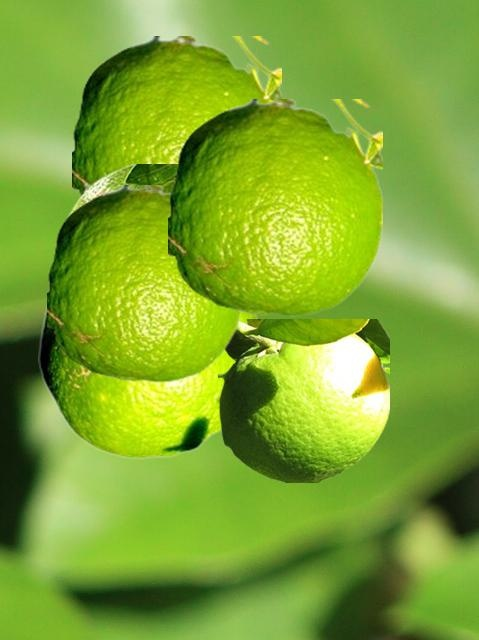dalandan: (168, 99, 381, 315), (47, 185, 241, 381), (38, 296, 260, 458), (72, 36, 280, 198), (218, 319, 388, 481), (63, 164, 176, 220)
